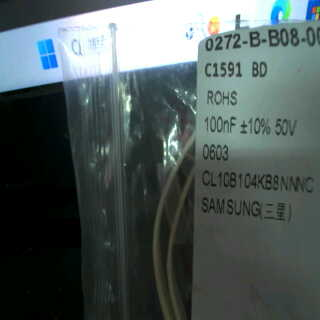100nF: (204, 114, 239, 135)
